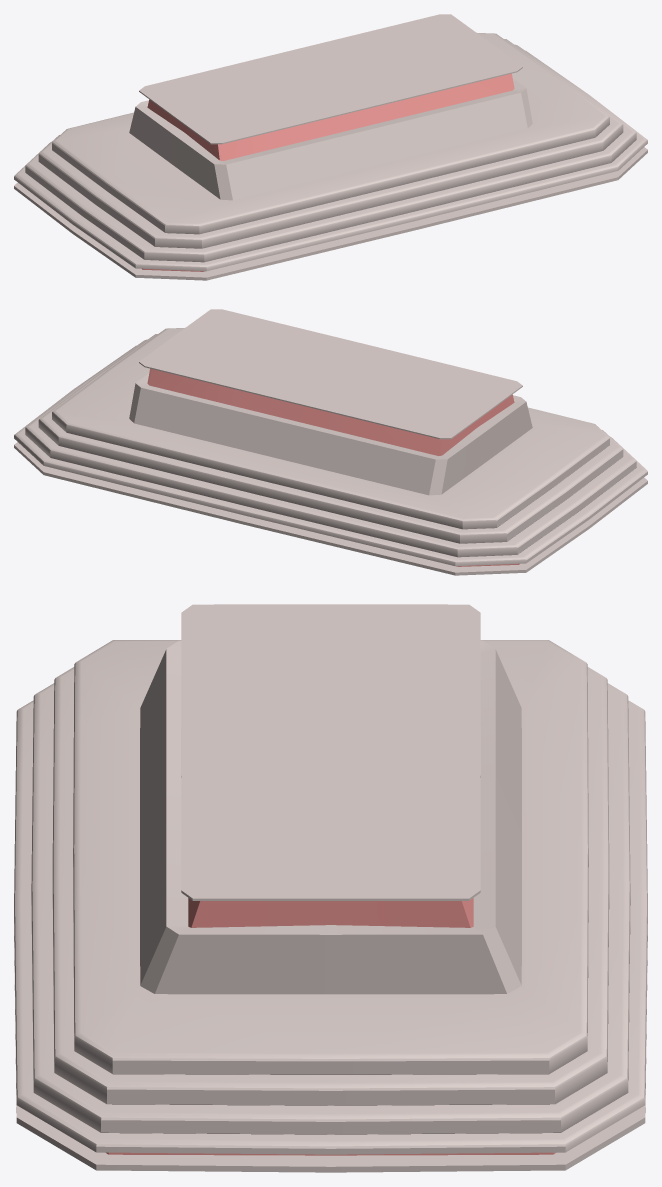
Rendered from StandNew.fbx.
The picture shows the model from 3 angles, top to bottom: view 1: azimuth 30°, elevation 25°; view 2: azimuth 150°, elevation 25°; view 3: azimuth 270°, elevation 25°; orthographic projection. The views are drawn at different scales.
Visible parts, largest first — view 1: Stand; view 2: Stand; view 3: Stand.
Part boxes in pixels (<box>): Stand: <box>14,14,647,280</box>; Stand: <box>14,309,647,575</box>; Stand: <box>14,604,647,1172</box>.
Size of the model in its own units: 286 by 48.77 by 158.
